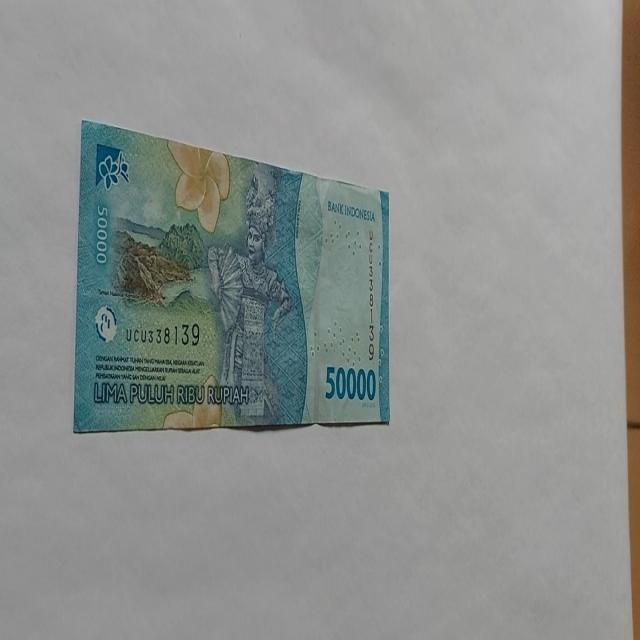lima puluh ribu rupiah: (72, 117, 392, 434)
